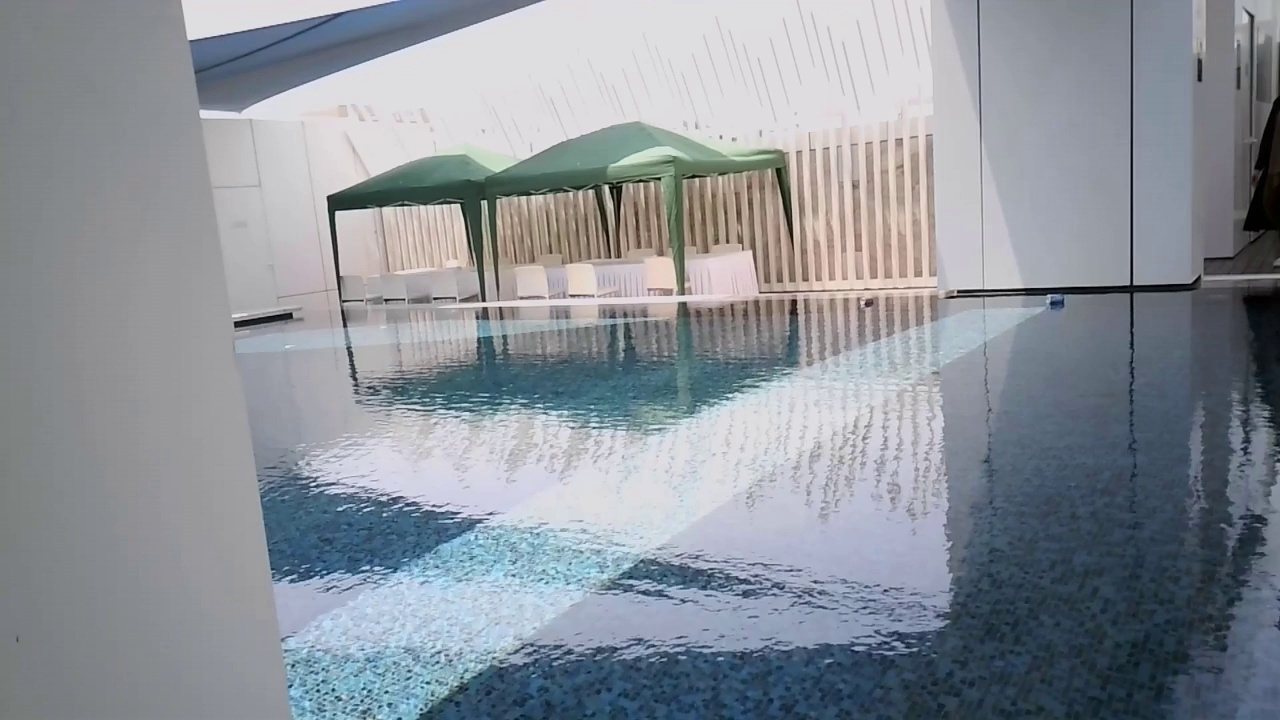debris: (1042, 290, 1070, 312), (856, 293, 875, 311)
